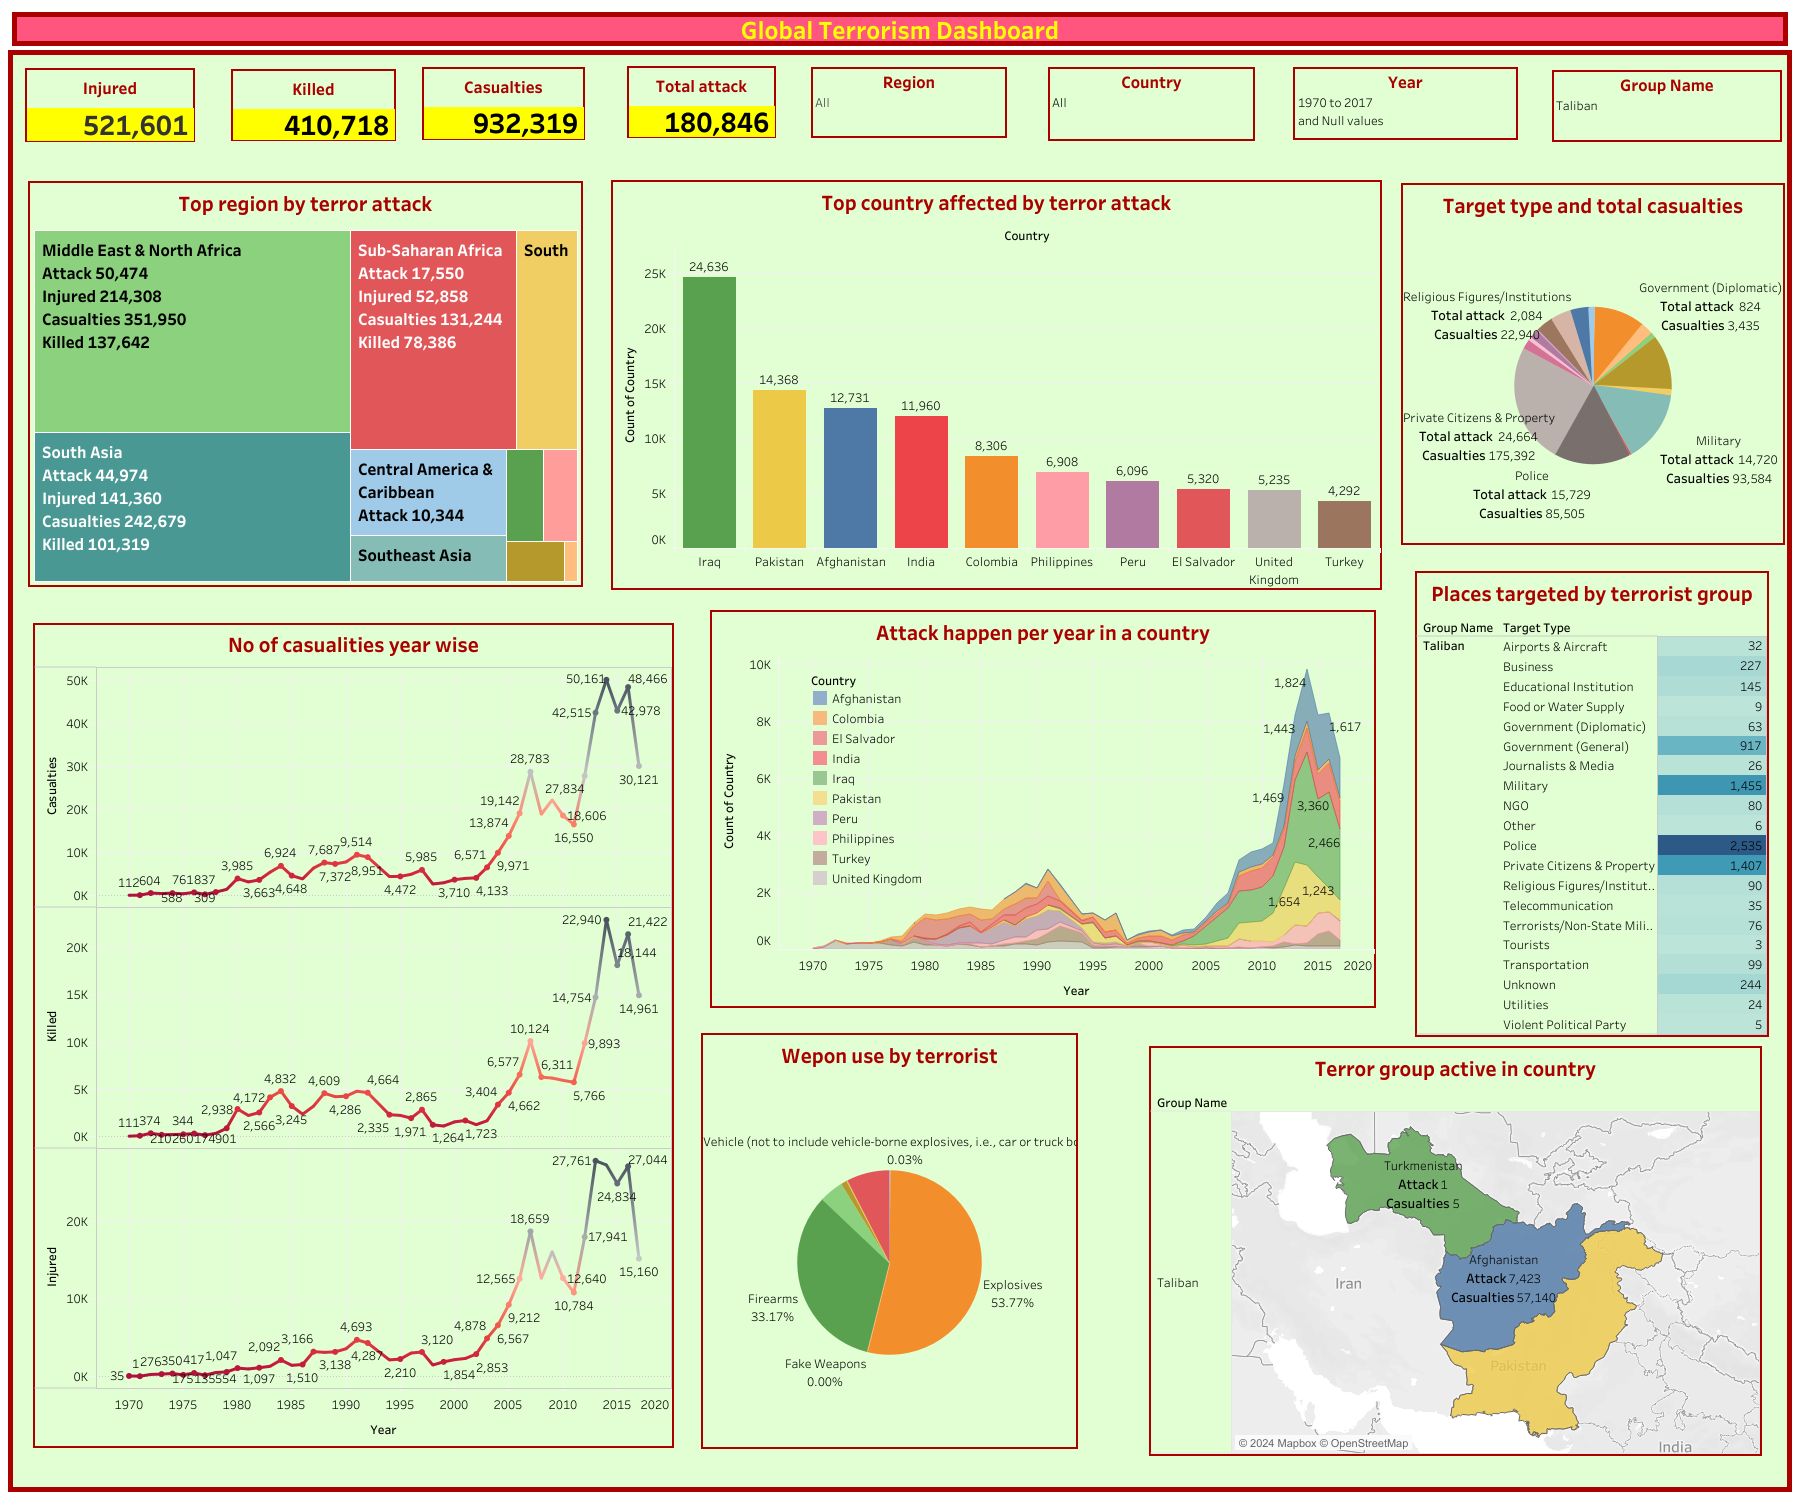

Layout of this report page (visuals, bound fields, positions):
{"tool":"tableau","page":{"name":"TOP REGION BY TERROR ATTACK","canvas":[1000,1000],"units":"permille","ordinal":1},"visuals":[{"type":"title","box":[4.4,5.3,991.1,28]},{"type":"worksheet","title":"Sheet 4","mark":"Automatic","box":[348.3,44,82.8,48]},{"type":"worksheet","title":"Sheet 3","mark":"Automatic","box":[234.4,44.7,90.6,48.7]},{"type":"filter","title":"Sheet 5","param":"[federated.018izfc008r04g1dy55vb0bqnlpy].[none:Region:nk]","box":[450.6,44.7,108.9,47.3]},{"type":"filter","title":"Sheet 6","param":"[federated.018izfc008r04g1dy55vb0bqnlpy].[none:Country:nk]","box":[582.2,44.7,115,49.3]},{"type":"filter","title":"Sheet 8","param":"[federated.018izfc008r04g1dy55vb0bqnlpy].[none:Year:qk]","box":[718.3,44.7,125,48.7]},{"type":"worksheet","title":"Sheet 1","mark":"Automatic","box":[13.9,45.3,94.4,49.3]},{"type":"worksheet","title":"Sheet 2","mark":"Automatic","box":[128.3,46,91.7,48]},{"type":"filter","title":"Sheet 22","param":"[federated.018izfc008r04g1dy55vb0bqnlpy].[none:Group_Name:nk]","box":[862.2,46.7,127.8,48]},{"type":"worksheet","title":"Sheet 5","mark":"Automatic","box":[12.5,117.3,314,277.1]},{"type":"worksheet","title":"Sheet 6","mark":"Automatic","rows":["Country"],"cols":["Country"],"box":[339.4,120,428.3,273.3]},{"type":"worksheet","title":"Sheet 15","mark":"Pie","box":[778.3,122,213.3,241.3]},{"type":"worksheet","title":"Sheet 22","mark":"Square","rows":["Group_Name","Target_Type"],"box":[786.1,380.7,196.7,310.7]},{"type":"worksheet","title":"Sheet 17","mark":"Area","rows":["Country"],"cols":["Year"],"box":[394.4,406.7,370,265.3]},{"type":"worksheet","title":"Sheet 8","mark":"Automatic","rows":["Casualties","Killed","Injured"],"cols":["Year"],"box":[18.3,415,356.1,550]},{"type":"legend","title":"Sheet 17","param":"[federated.018izfc008r04g1dy55vb0bqnlpy].[none:Country:nk]","box":[450,446,63.9,147.3]},{"type":"worksheet","title":"Sheet 11","mark":"Pie","box":[389.4,688.7,209.4,277.3]},{"type":"worksheet","title":"Sheet 20","mark":"Multipolygon","rows":["Group_Name"],"box":[638.3,697.3,340.6,273.3]}]}

Visuals, with their boxes on the dashboard's canvas, which has no fixed pixel size, in thousandths of its width and height (x1, y1, x2, y2). These are canvas units, not pixel positions in the 1799x1499 screenshot, which may show the page scaled, cropped or inside an application window:
title: rect(4, 5, 996, 33)
"Sheet 4" worksheet: rect(348, 44, 431, 92)
"Sheet 3" worksheet: rect(234, 45, 325, 93)
"Sheet 5" filter: rect(451, 45, 560, 92)
"Sheet 6" filter: rect(582, 45, 697, 94)
"Sheet 8" filter: rect(718, 45, 843, 93)
"Sheet 1" worksheet: rect(14, 45, 108, 95)
"Sheet 2" worksheet: rect(128, 46, 220, 94)
"Sheet 22" filter: rect(862, 47, 990, 95)
"Sheet 5" worksheet: rect(12, 117, 326, 394)
"Sheet 6" worksheet: rect(339, 120, 768, 393)
"Sheet 15" worksheet (Pie marks): rect(778, 122, 992, 363)
"Sheet 22" worksheet (Square marks): rect(786, 381, 983, 691)
"Sheet 17" worksheet (Area marks): rect(394, 407, 764, 672)
"Sheet 8" worksheet: rect(18, 415, 374, 965)
"Sheet 17" legend: rect(450, 446, 514, 593)
"Sheet 11" worksheet (Pie marks): rect(389, 689, 599, 966)
"Sheet 20" worksheet (Multipolygon marks): rect(638, 697, 979, 971)
